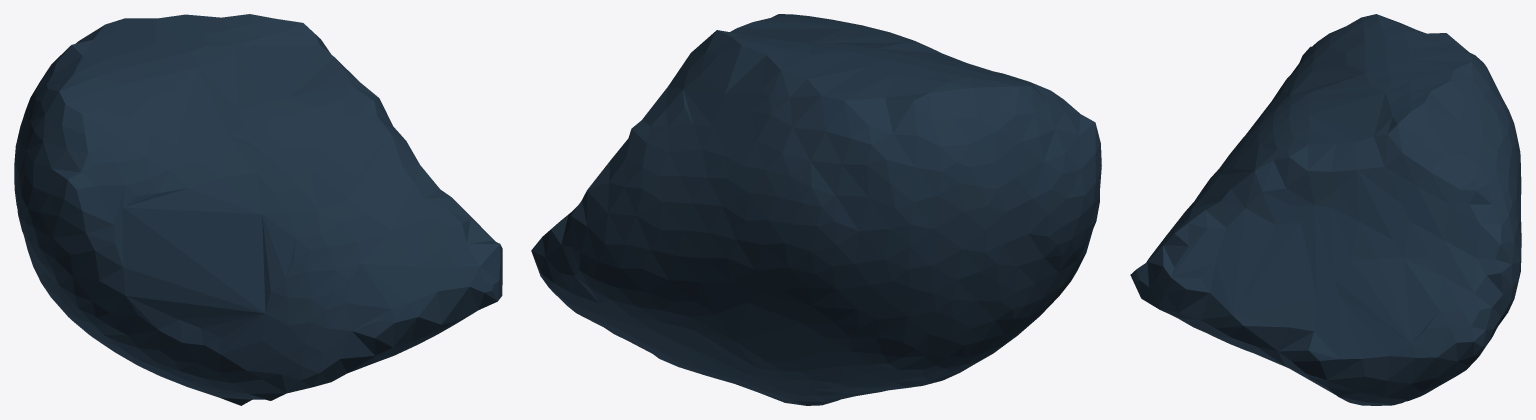
Rendered from Model_10316_LH__Ventral_posterolateral_thalamic_nucleus_(VPL).obj.
3 views of the same model, side by side, from view 1: azimuth 30°, elevation 25°; view 2: azimuth 150°, elevation 25°; view 3: azimuth 270°, elevation 25° (orthographic). The views are drawn at different scales.
Size of the model in its own units: 1.7 by 1.27 by 1.56.
